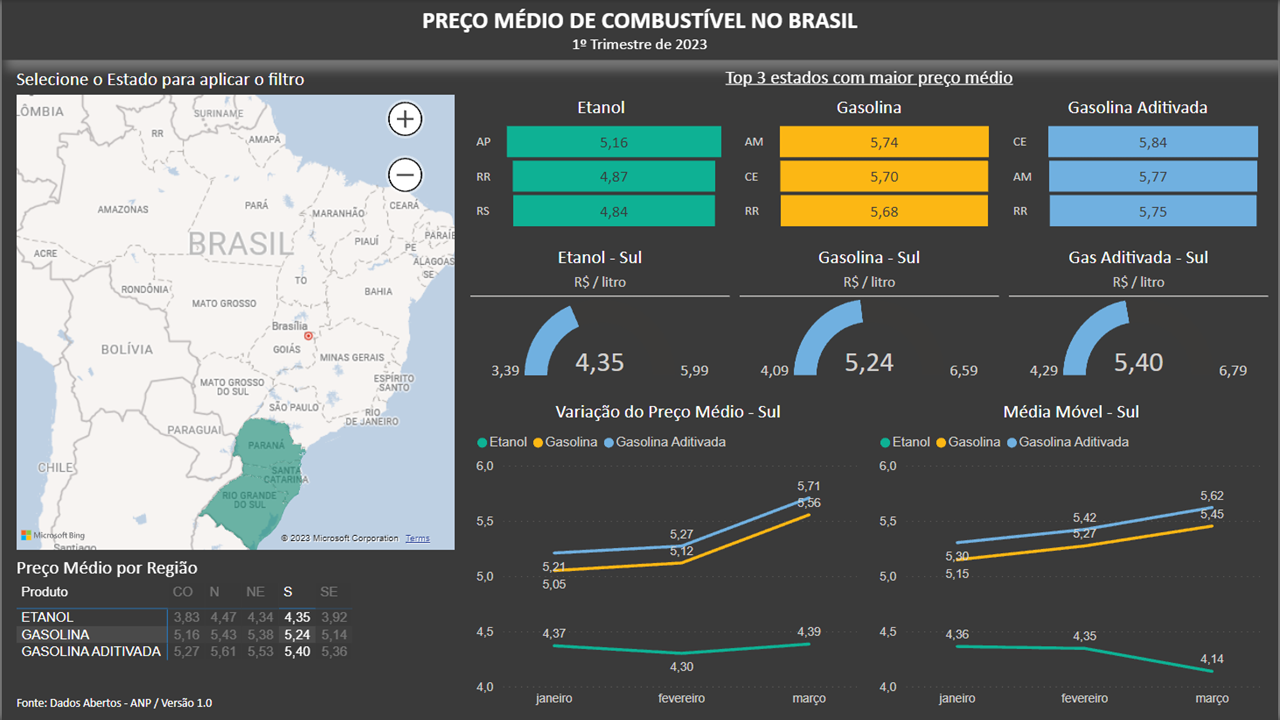

This screenshot's page, from the dashboard's own definition file:
{"tool":"powerbi","page":{"name":"Preço Médio","canvas":[1280,720],"ordinal":0},"visuals":[{"type":"lineChart","fields":{"Category":["preco_tratado.Data_Coleta.Variation.Hierarquia de datas.Mês","preco_tratado.Data_Coleta.Variation.Hierarquia de datas.Dia"],"Y":["Medidas.MediaNacEtanol","Medidas.MediaNacGasComum","Medidas.MediaNacGasAdit"]},"box":[470.9,395,395,320],"z":0},{"type":"lineChart","fields":{"Y":["Medidas.Média móvel de MediaNacEtanol","Medidas.Média móvel de MediaNacGasComum","Medidas.Média móvel de MediaNacGasAdit"],"Category":["preco_tratado.Data_Coleta.Variation.Hierarquia de datas.Mês","preco_tratado.Data_Coleta.Variation.Hierarquia de datas.Dia"]},"box":[874.9,395,395.1,320],"z":1000},{"type":"filledMap","title":"Selecione o Estado para aplicar o filtro","fields":{"Category":["preco_tratado.Estado"]},"box":[10,65,450,490],"z":2000},{"type":"pivotTable","fields":{"Rows":["preco_tratado.Produto"],"Columns":["preco_tratado.Regiao"],"Values":["Medidas.MediaValorVenda"]},"box":[10,554.7,450,123.7],"z":3000},{"type":"funnel","title":"Gasolina ","fields":{"Category":["TOPMediaGas.Estado"],"Y":["Avg(TOPMediaGas.GAS)"]},"box":[740.2,95,260,140.1],"z":4000},{"type":"textbox","box":[0,0,1280,60],"z":5000},{"type":"funnel","title":"Gasolina Aditivada","fields":{"Category":["TOPMediaGasAdit.Estado"],"Y":["Avg(TOPMediaGasAdit.GAS_ADIT)"]},"box":[1009.6,95,260.7,140.1],"z":6000},{"type":"funnel","title":"Etanol","fields":{"Category":["TOPMediaEtanol.Estado"],"Y":["Avg(TOPMediaEtanol.ETANOL)"]},"box":[470.8,95,260.7,140.1],"z":7000},{"type":"textbox","title":"Top 3 estados com maior preço médio","box":[470.2,65,800.1,30],"z":8000},{"type":"textbox","box":[10,690,225.5,25.9],"z":9000},{"type":"textbox","box":[470,245.1,260,52],"z":10000},{"type":"gauge","fields":{"Y":["Medidas.MediaNacEtanol"],"MinValue":["Medidas.MinMediaNacEtanol"],"MaxValue":["Medidas.MaxMediaNacEtanol"]},"box":[470,297.6,259.7,87.5],"z":11000},{"type":"textbox","box":[740,245,260,52],"z":12000},{"type":"gauge","fields":{"Y":["Medidas.MediaNacGasComum"],"MinValue":["Medidas.MinMediaNacGas"],"MaxValue":["Medidas.MaxMediaNacGas"]},"box":[740,297,259.7,87.5],"z":13000},{"type":"textbox","box":[1010.7,245,260,52],"z":14000},{"type":"gauge","fields":{"Y":["Medidas.MediaNacGasAdit"],"MinValue":["Medidas.MinMediaNacGasAdt"],"MaxValue":["Medidas.MaxMediaNacGasAdt"]},"box":[1010.7,297,259.7,87.5],"z":15000}]}

Visuals, with their boxes in screenshot pixels (x1, y1, x2, y2), scaled from the page's 1280x720 canvas onto the 1280x720 screenshot:
lineChart - preco_tratado.Data_Coleta.Variation.Hierarquia de datas.Mês x preco_tratado.Data_Coleta.Variation.Hierarquia de datas.Dia: 471,395,866,715
lineChart - Medidas.Média móvel de MediaNacEtanol x Medidas.Média móvel de MediaNacGasComum: 875,395,1270,715
"Selecione o Estado para aplicar o filtro" filledMap: 10,65,460,555
pivotTable - preco_tratado.Produto x preco_tratado.Regiao: 10,555,460,678
"Gasolina " funnel: 740,95,1000,235
textbox: 0,0,1279,60
"Gasolina Aditivada" funnel: 1010,95,1270,235
"Etanol" funnel: 471,95,732,235
"Top 3 estados com maior preço médio" textbox: 470,65,1270,95
textbox: 10,690,236,716
textbox: 470,245,730,297
gauge - Medidas.MediaNacEtanol x Medidas.MinMediaNacEtanol: 470,298,730,385
textbox: 740,245,1000,297
gauge - Medidas.MediaNacGasComum x Medidas.MinMediaNacGas: 740,297,1000,384
textbox: 1011,245,1271,297
gauge - Medidas.MediaNacGasAdit x Medidas.MinMediaNacGasAdt: 1011,297,1270,384
